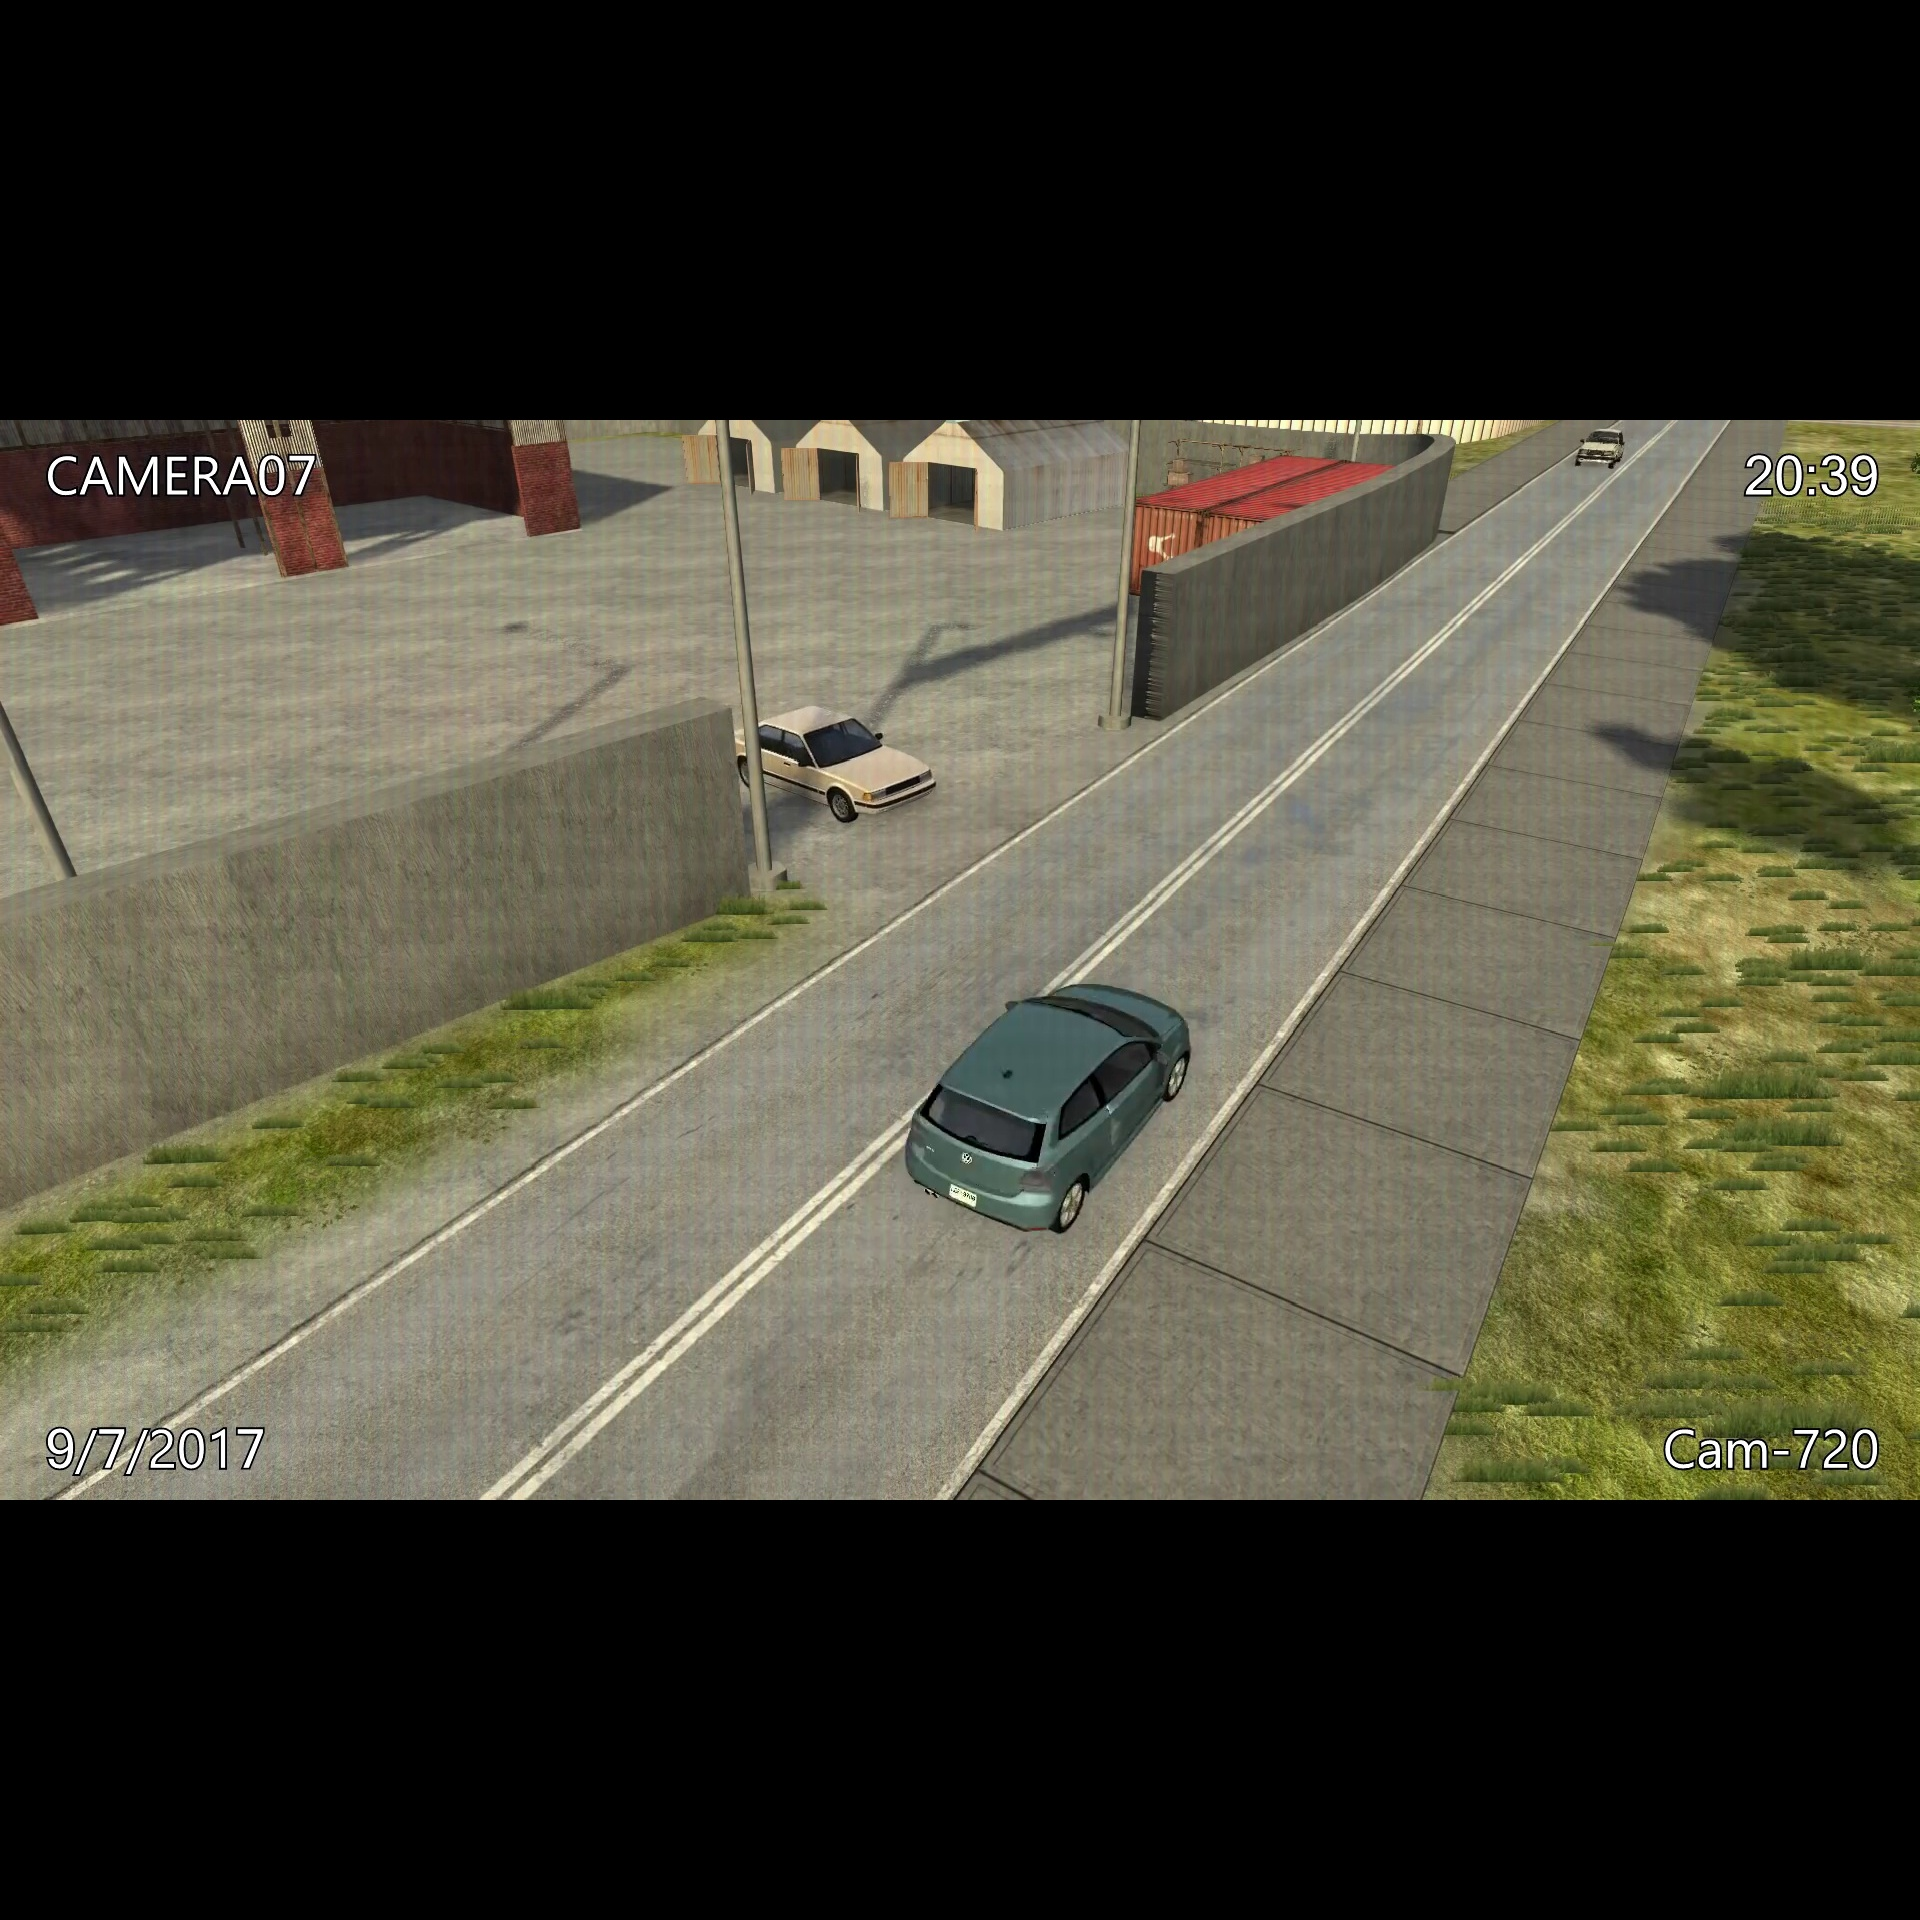vehicle: (898, 969, 1203, 1240), (730, 703, 941, 826), (1568, 425, 1633, 471)
